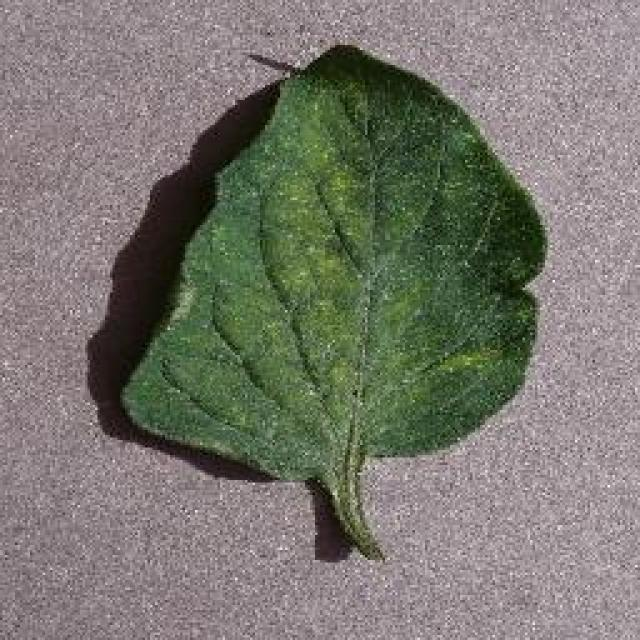Tomato mosaic virus leaf: (111, 37, 554, 485)
